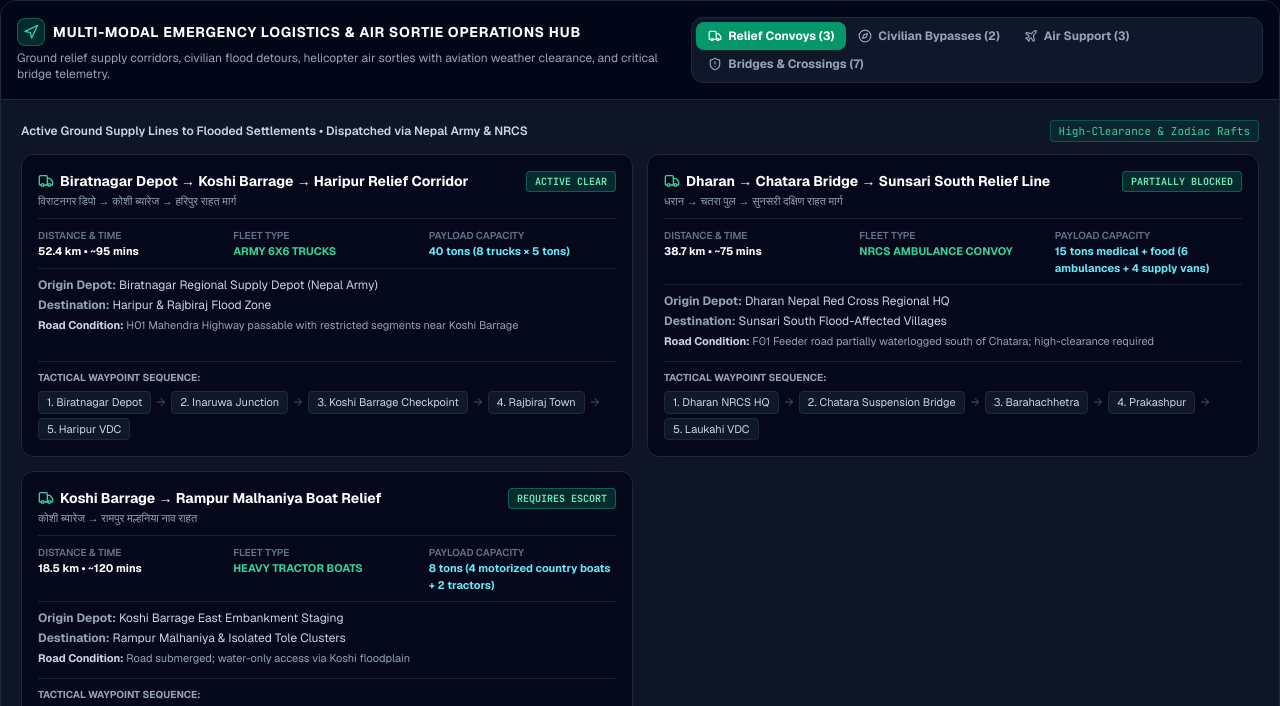
Test case: Stage 5.1 & Multi-Modal Logistics Enhancement Suite › 2. EmergencyLogisticsHub Component › switches between Relief Convoys, Civilian Bypasses, Air Support, and Bridges tabs
The image size is (1280, 706).
# Switch to Civilian Bypasses
Click the button "Civilian Bypasses (2)". click: point(929, 36)
box: [846, 22, 1012, 50]
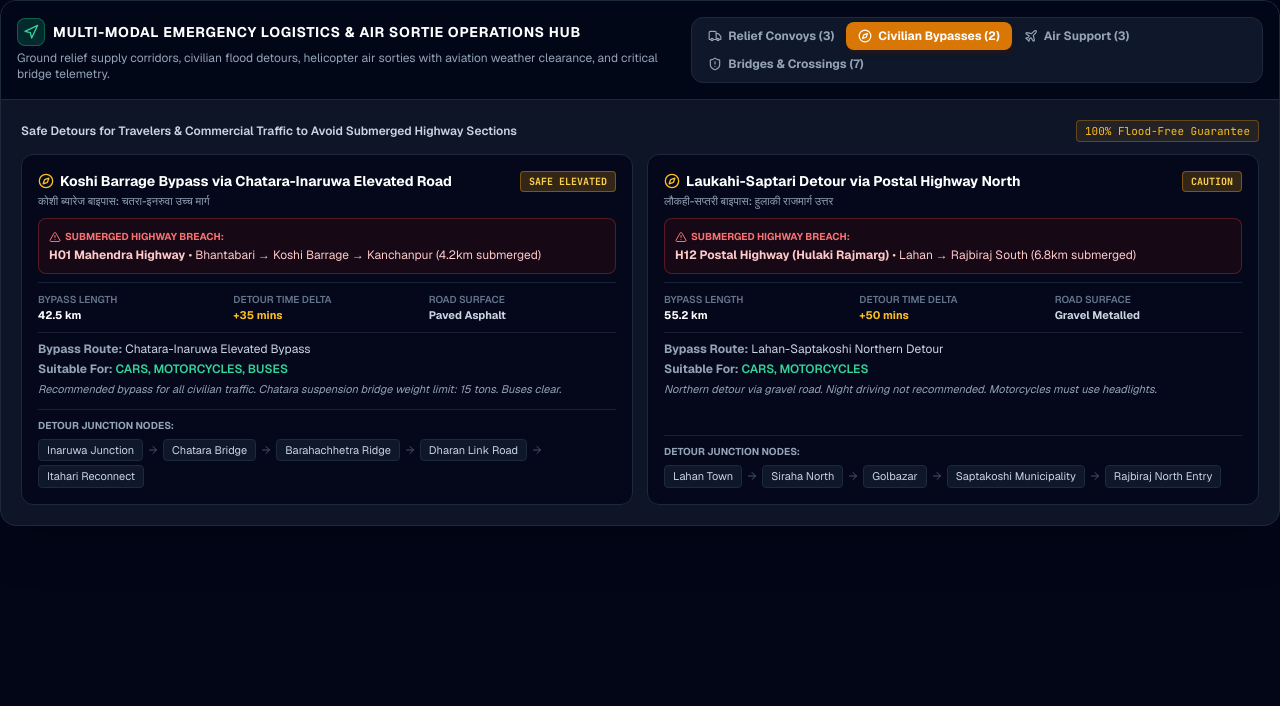
Expected: the text "Safe Detours for Travelers & Commercial Traffic" is shown, [21, 123, 517, 139]
# Switch to Air Support
Click the button "Air Support (3)". click: point(1077, 36)
box: [1012, 22, 1141, 50]
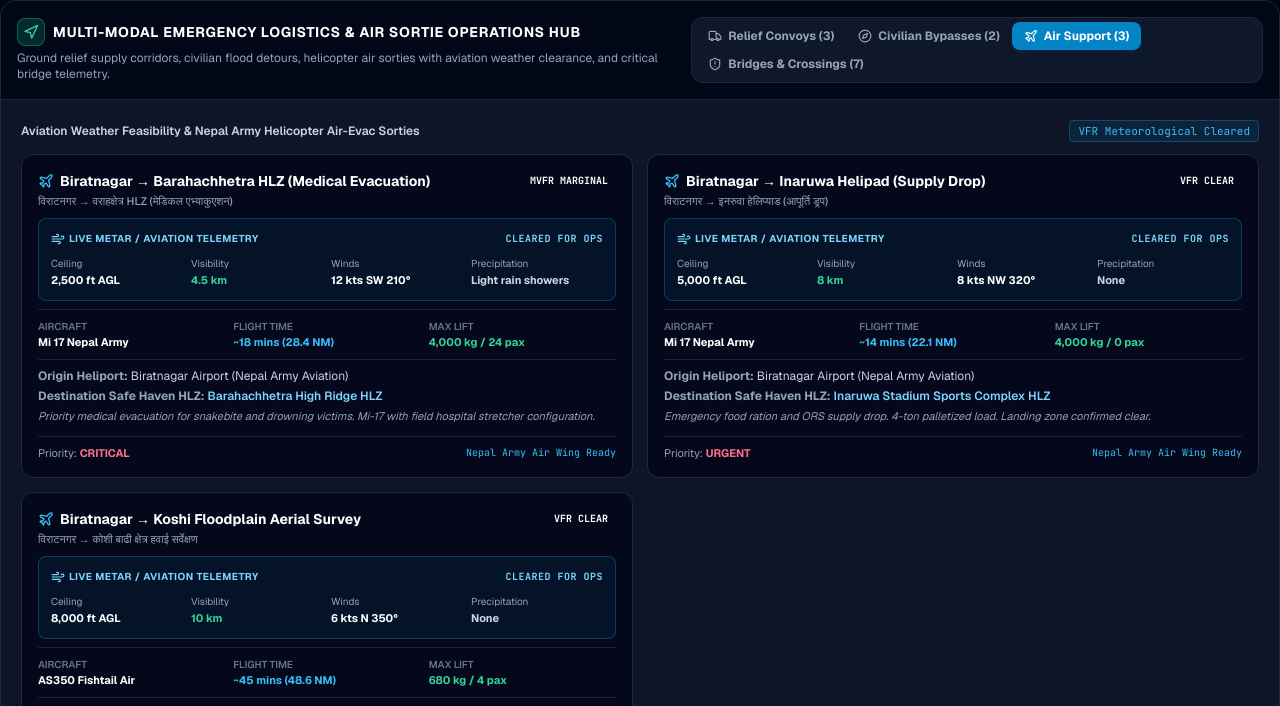
Expected: the text "Aviation Weather Feasibility & Nepal Army Helicopter Air-Evac Sorties" is shown, [21, 123, 420, 139]
# Switch to Bridges & Crossings
Click the button "Bridges & Crossings (7)". click: point(786, 64)
box: [696, 50, 876, 78]
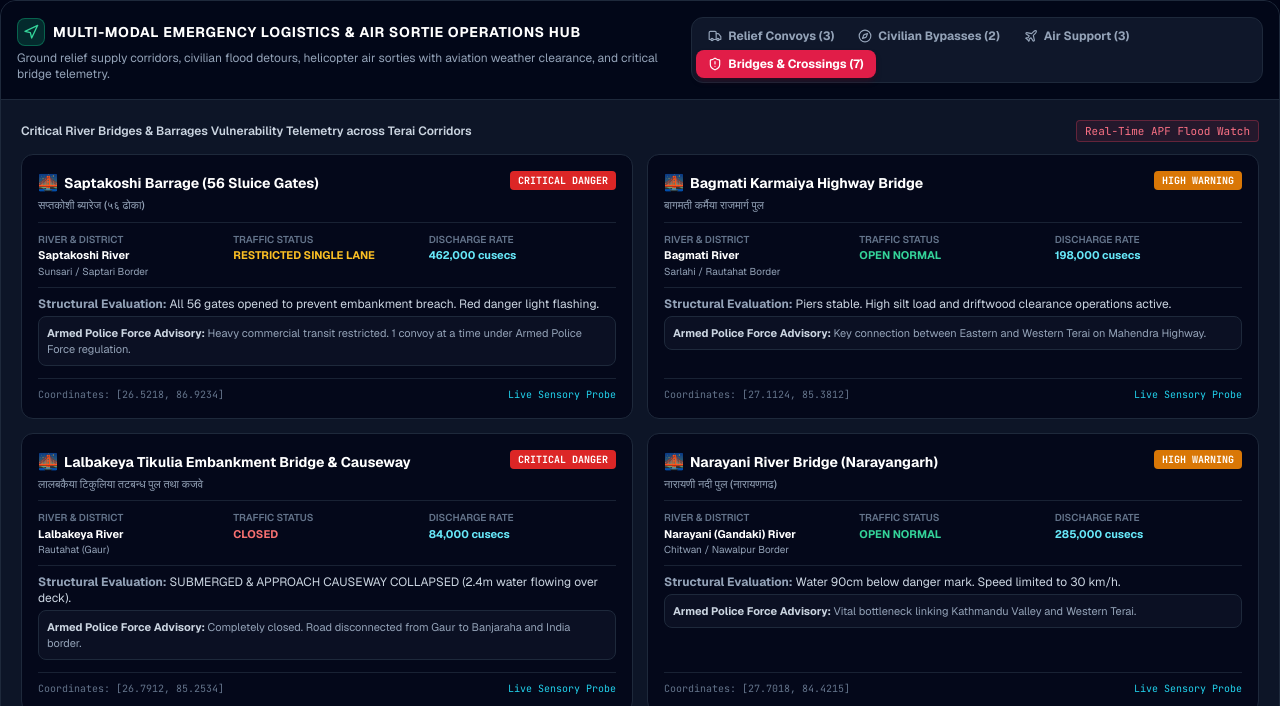
Expected: the text "Critical River Bridges & Barrages Vulnerability Telemetry" is shown, [21, 123, 472, 139]
